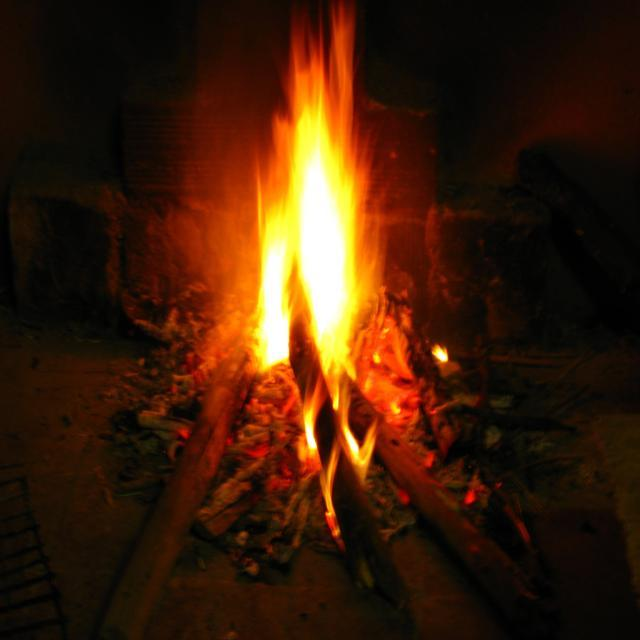Fire: (298, 168, 346, 322)
